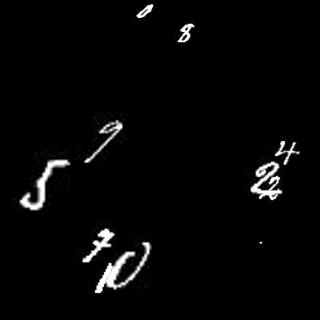dot: (257, 235, 267, 246)
eight: (174, 19, 199, 46)
five: (19, 156, 69, 213)
four: (274, 139, 303, 166)
nine: (86, 117, 120, 163)
one: (94, 258, 108, 296)
seven: (80, 226, 116, 264)
zero: (110, 240, 159, 289), (135, 4, 156, 21)
